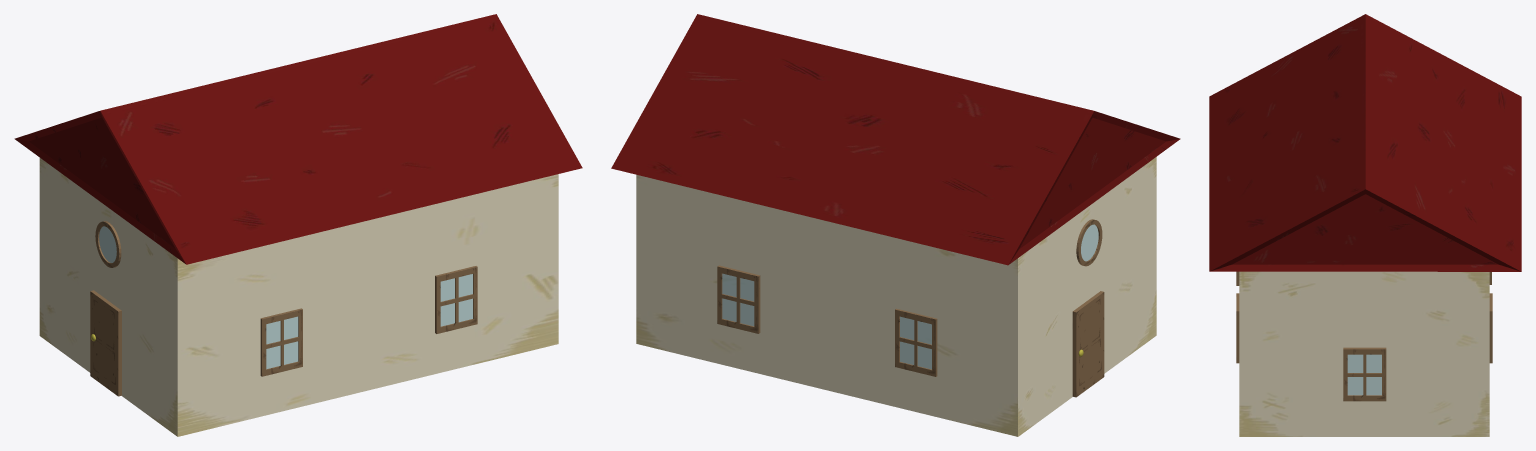
File: maison 1.fbx
3 renders of one model, left to right at view 1: azimuth 30°, elevation 25°; view 2: azimuth 150°, elevation 25°; view 3: azimuth 270°, elevation 25°, orthographic. The views are drawn at different scales.
Visible parts, largest first — view 1: base maison.001, toit.001, porte.001, fenetre.006, fenetre.005, Hulette.001; view 2: base maison.001, toit.001, porte.001, fenetre.007, fenetre.008, Hulette.001; view 3: toit.001, base maison.001, fenetre.009.
Boxes of the visible parts, box(x1,y1,x2,y2) form: base maison.001: box(39, 158, 558, 436); toit.001: box(14, 14, 582, 264); porte.001: box(90, 290, 121, 396); fenetre.006: box(435, 266, 477, 333); fenetre.005: box(260, 308, 302, 376); Hulette.001: box(95, 221, 121, 267); base maison.001: box(636, 157, 1156, 436); toit.001: box(611, 14, 1180, 265); porte.001: box(1072, 291, 1104, 397); fenetre.007: box(717, 265, 760, 333); fenetre.008: box(895, 308, 937, 376); Hulette.001: box(1076, 219, 1102, 266); toit.001: box(1209, 14, 1521, 271); base maison.001: box(1239, 271, 1489, 436); fenetre.009: box(1343, 347, 1386, 401).
Bounding box in the file's own units: 896 × 599 × 675.
5 materials, 3 textured.
